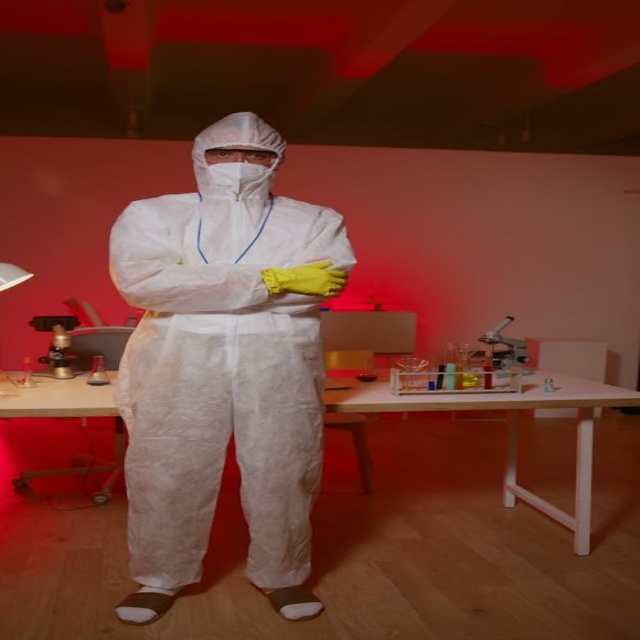Gafas: (204, 150, 277, 165)
Guantes: (261, 261, 348, 297)
Mascara: (204, 160, 275, 194)
